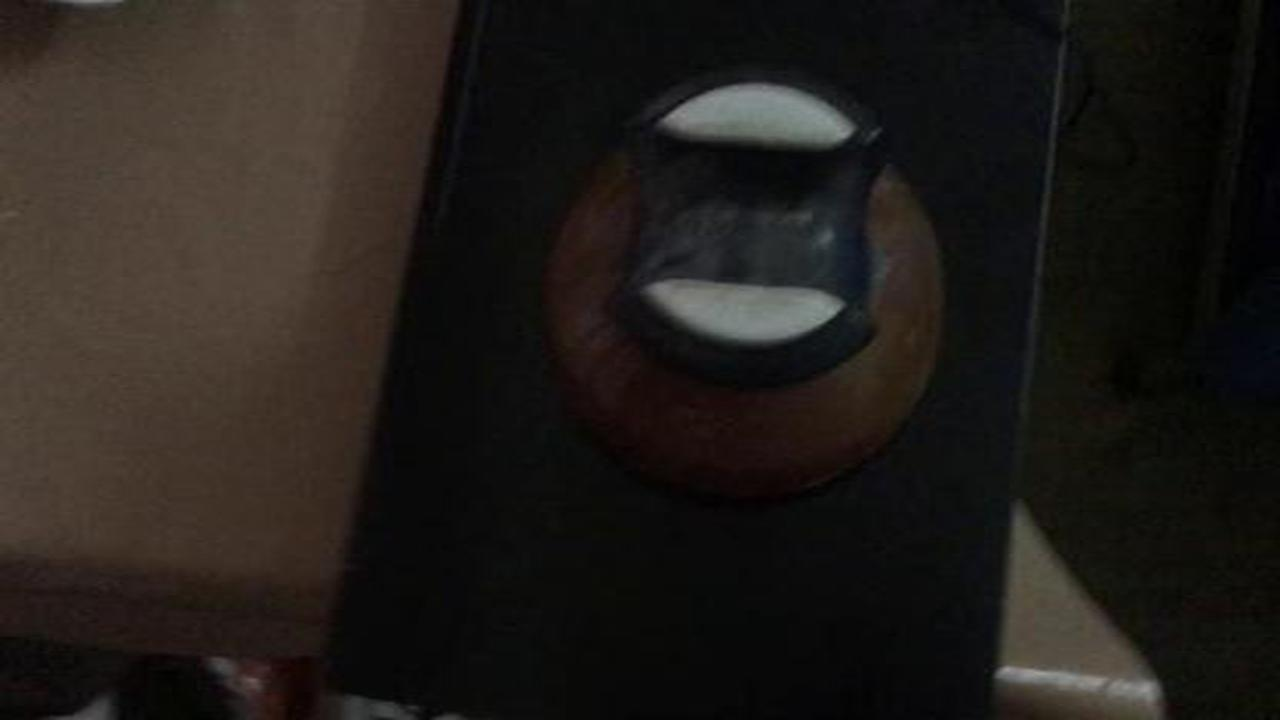insulator_pin: (524, 58, 985, 511)
